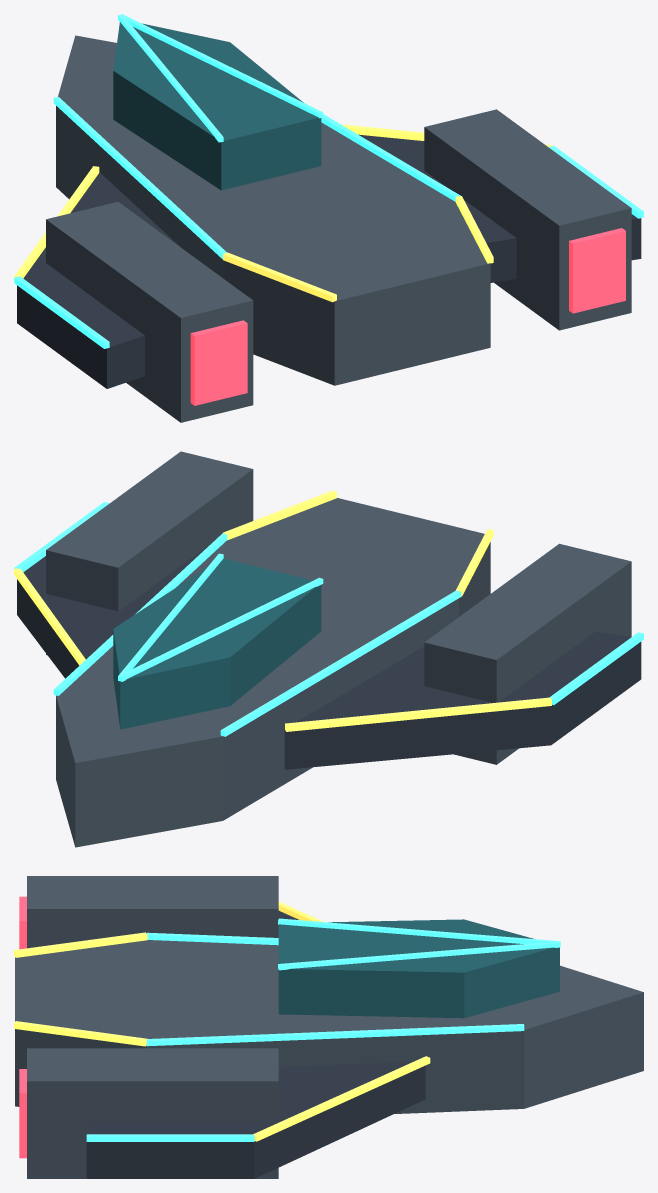
The model's file is ash_flight.glb.
The picture shows the model from 3 angles, top to bottom: view 1: azimuth 30°, elevation 25°; view 2: azimuth 150°, elevation 25°; view 3: azimuth 270°, elevation 25°; orthographic projection. The views are drawn at different scales.
Visible parts, largest first — view 1: ash_flight; view 2: ash_flight; view 3: ash_flight.
Boxes of the visible parts, x1=… form: ash_flight: x1=14, y1=14, x2=643, y2=422; ash_flight: x1=14, y1=451, x2=643, y2=847; ash_flight: x1=14, y1=876, x2=643, y2=1178.
Size of the model in its own units: 9.7 by 2.47 by 10.52.
